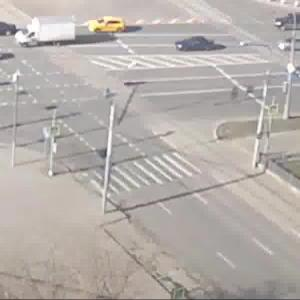car: (15, 18, 78, 48), (173, 35, 214, 55), (84, 17, 127, 36), (273, 11, 300, 28)
